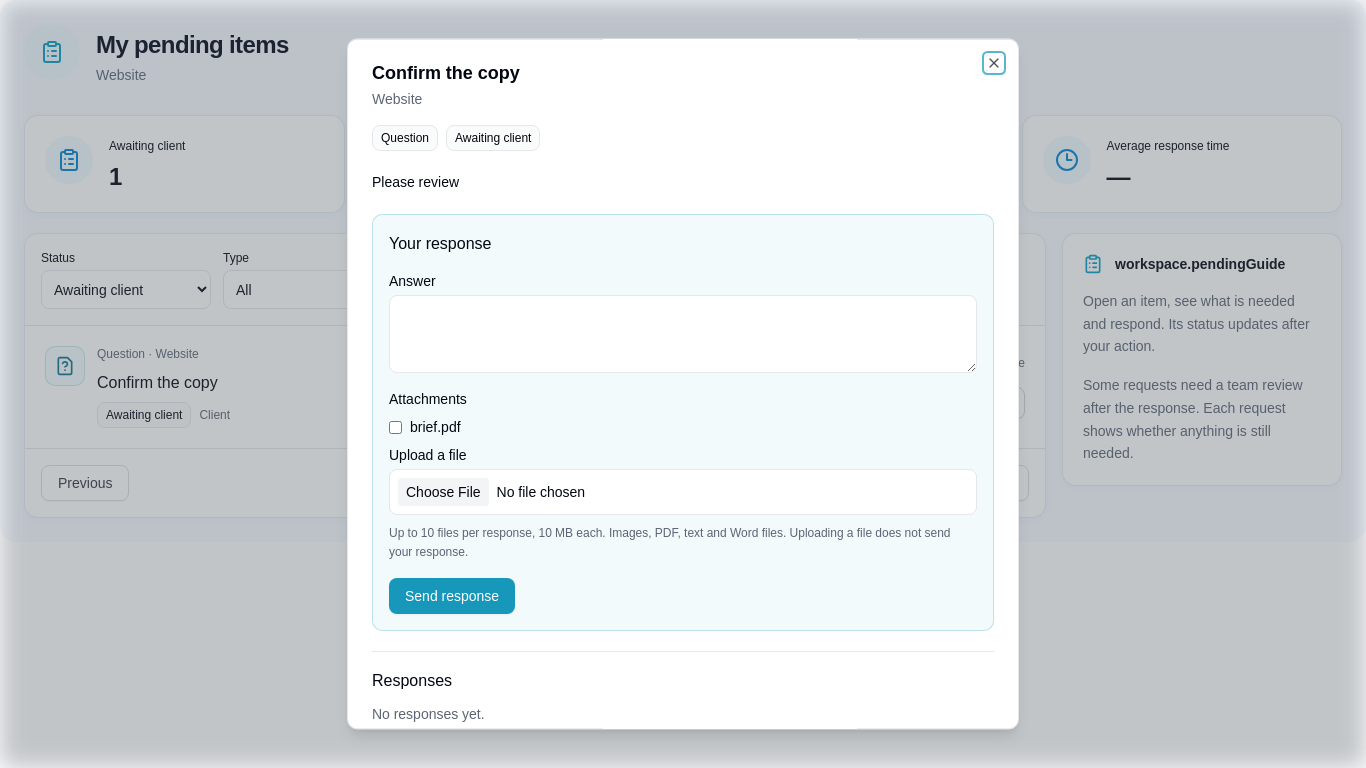
it: a conflict keeps the response visible and does not silently retry
The image size is (1366, 768).
Step 1. Type "My response" into the text box labelled "Answer" → {"x": 683, "y": 334}, box [389,295,977,373]
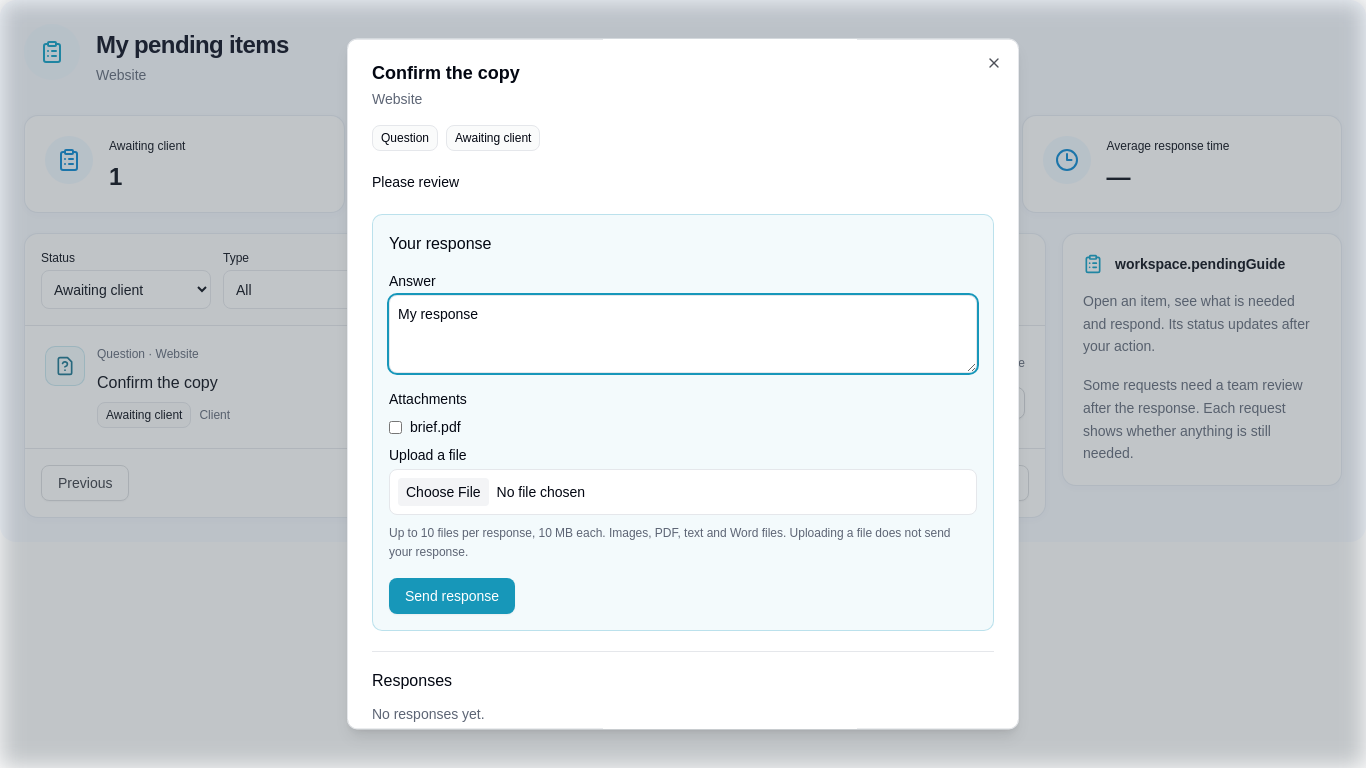
Step 2. Click the button "Send response" → {"x": 452, "y": 596}, box [389,578,515,614]
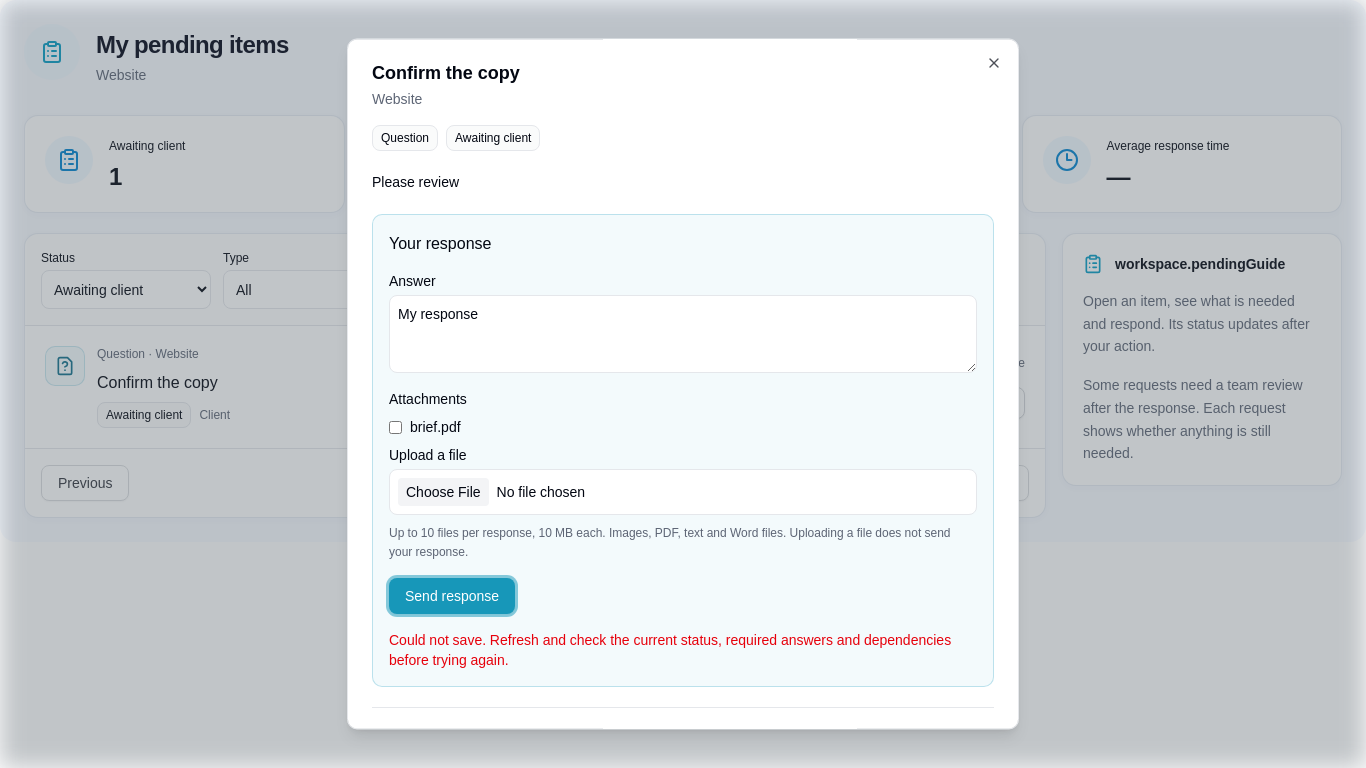
expect the message shows "Could not save. Refresh and check the current status, required answers and dependencies before trying again.": met, box [389,630,951,669]
